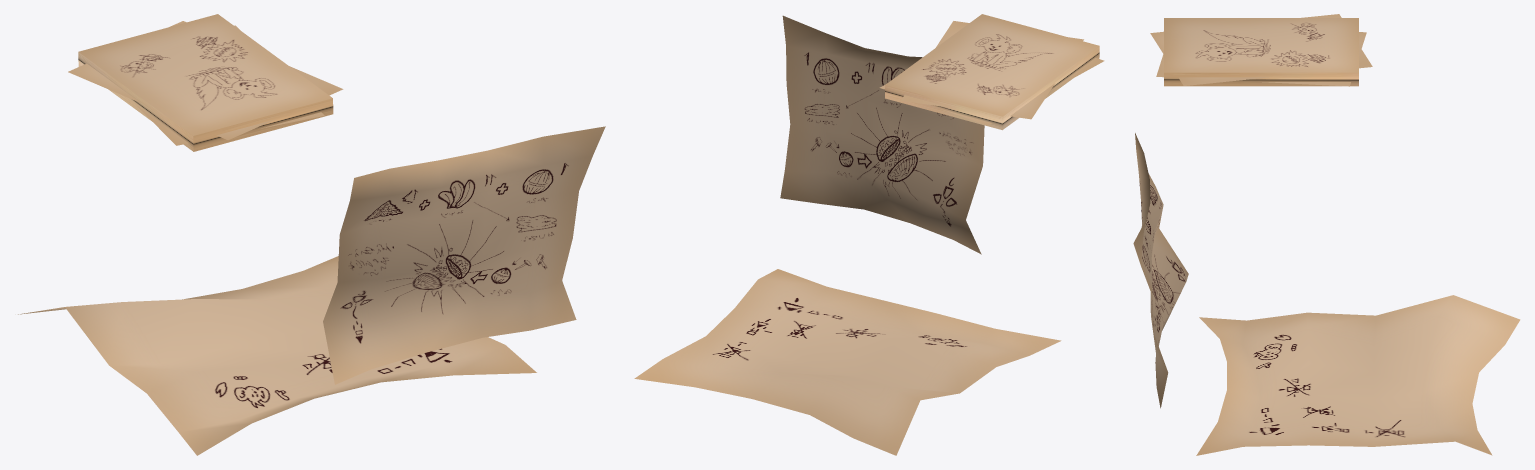
3 renders of one model, left to right at view 1: azimuth 30°, elevation 25°; view 2: azimuth 150°, elevation 25°; view 3: azimuth 270°, elevation 25°, orthographic. The views are drawn at different scales.
Visible parts, largest first — view 1: deskpapers; view 2: deskpapers; view 3: deskpapers.
Boxes of the visible parts, x1,y1,x2,y2 form: deskpapers: (18, 14, 605, 455); deskpapers: (634, 14, 1104, 455); deskpapers: (1133, 14, 1520, 455).
Size of the model in its own units: 0.0868 by 0.0689 by 0.0823.
